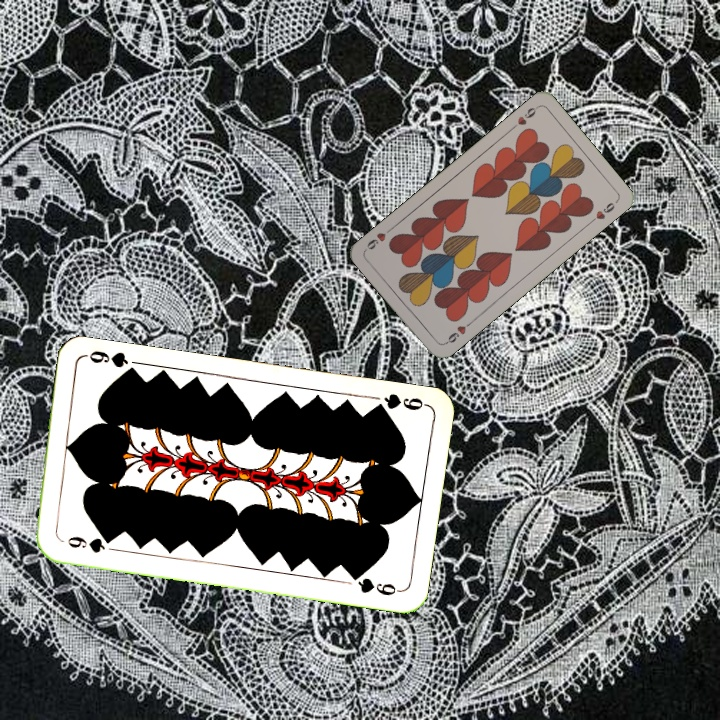G9: (368, 389, 429, 415), (63, 532, 116, 556)
H9: (507, 102, 541, 133), (440, 317, 475, 347)
